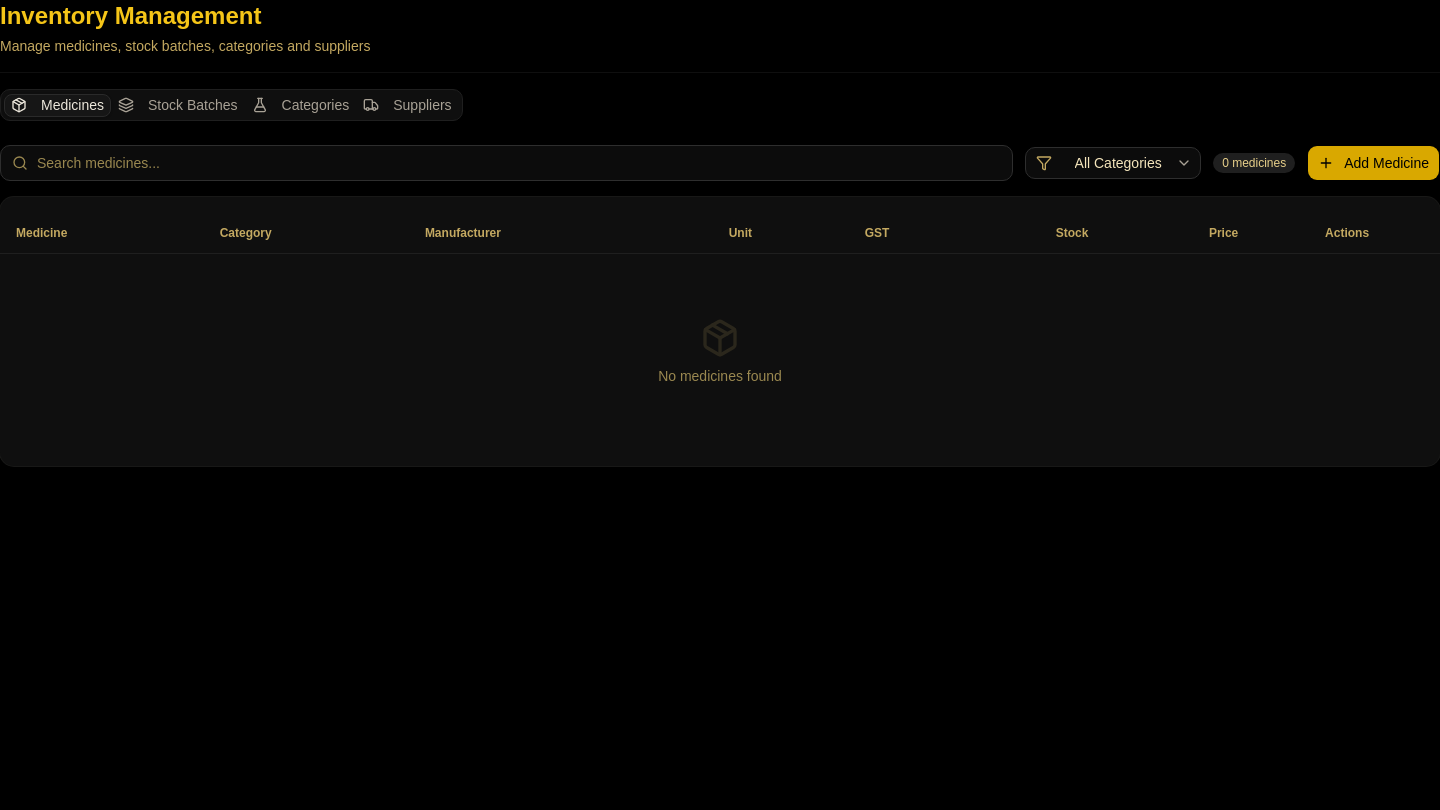
Scenario: Inventory — the unit field › offers the units this shop already uses, not only the built-in list
The image size is (1440, 810).
Click the button "Add Medicine" at (1374, 163), box [1307,145,1439,181]
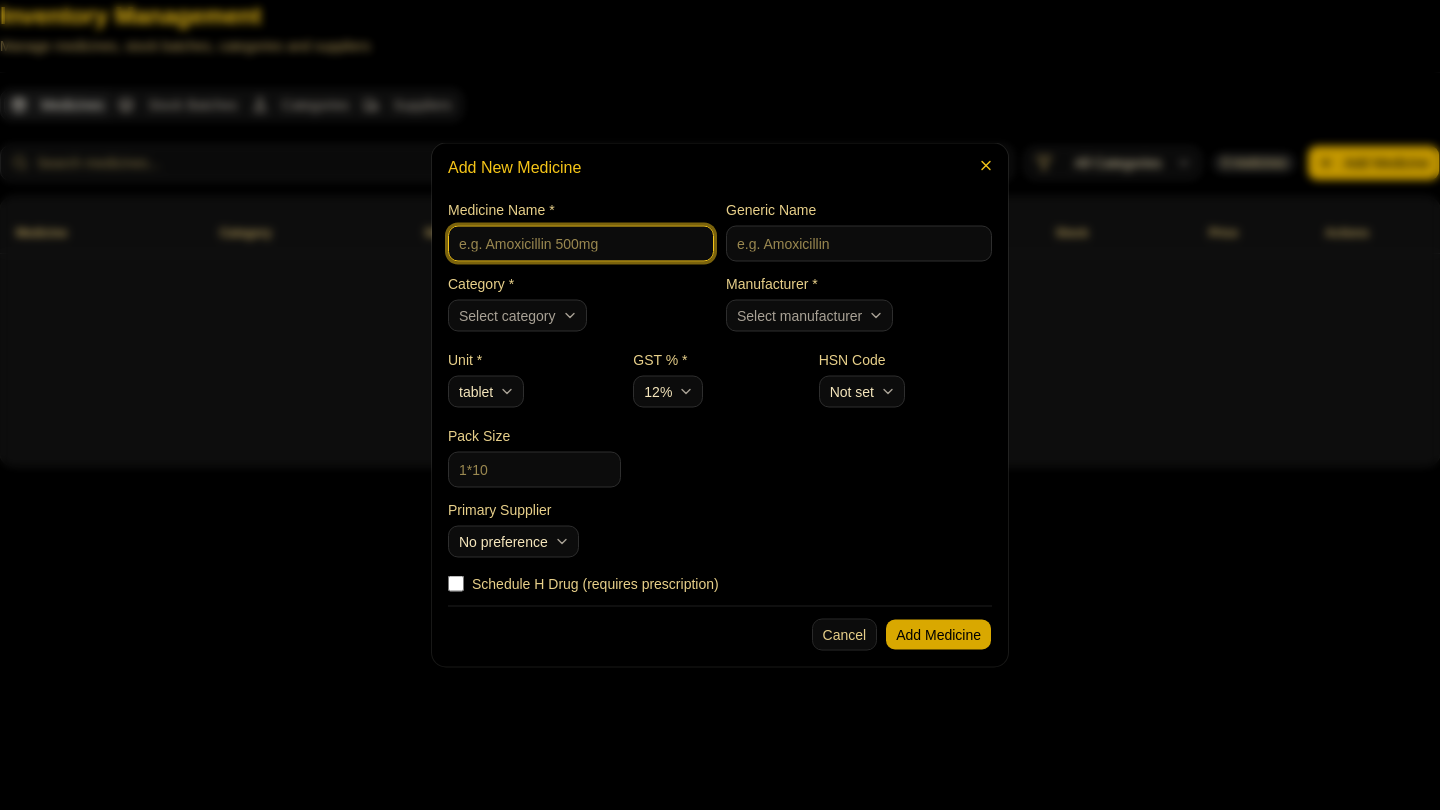
Type "Ceftriaxone 1g" into the field with placeholder "e.g. Amoxicillin 500mg" at (581, 244), box [448,226,714,262]
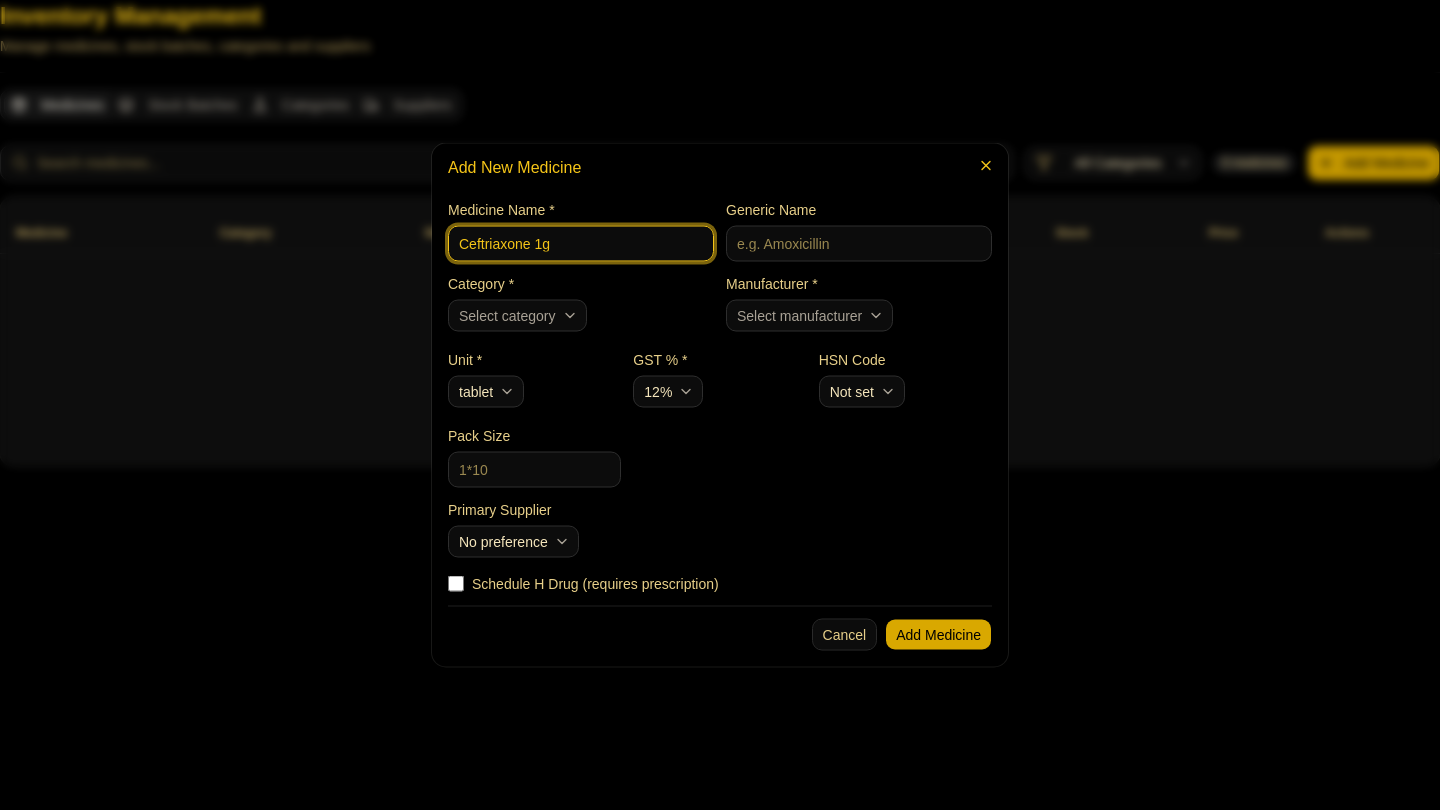
Click the dropdown named "unit" at (486, 392), box [448,376,524,408]
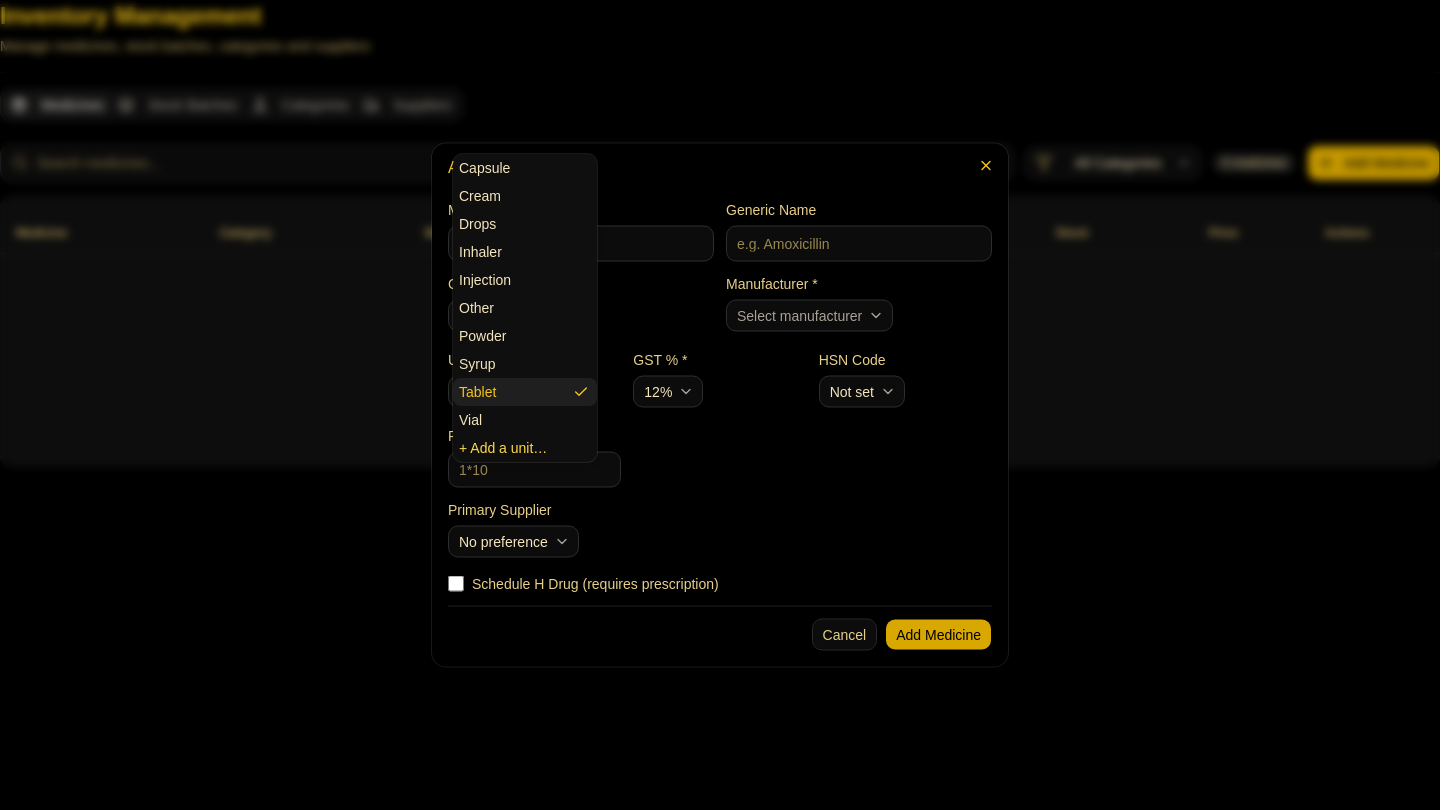
expect the option "vial" is shown: met, box [459,412,482,428]
expect the option "capsule" is shown: met, box [459,160,510,176]
